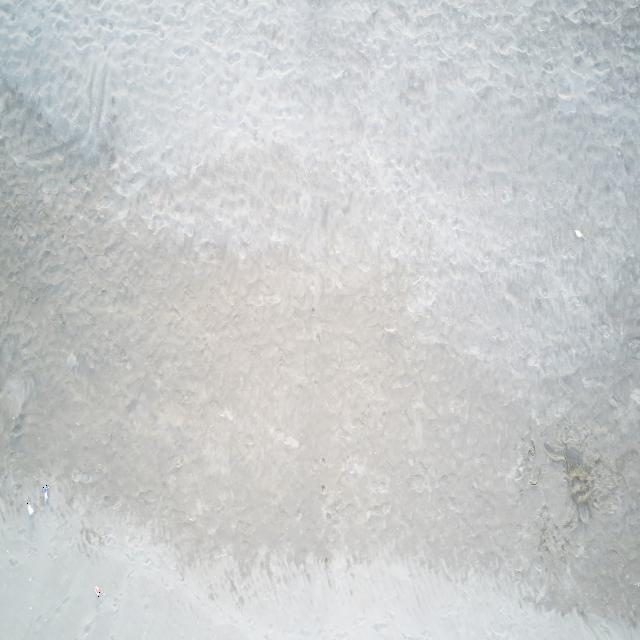tin-and-aluminum-cans: (26, 502, 34, 516), (43, 485, 49, 501), (94, 585, 101, 597)
